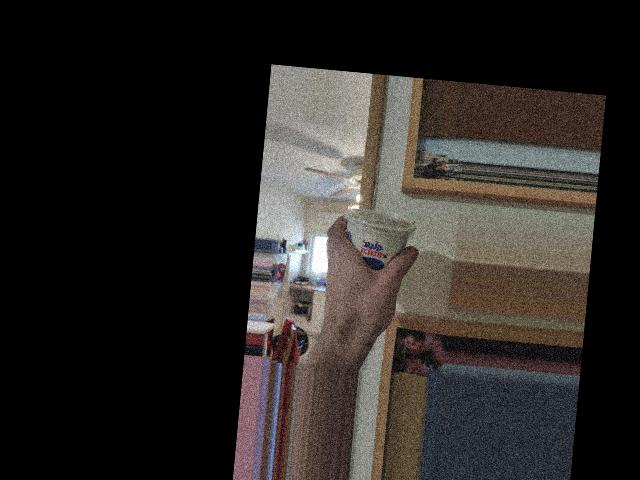cotage: (332, 201, 414, 288)
